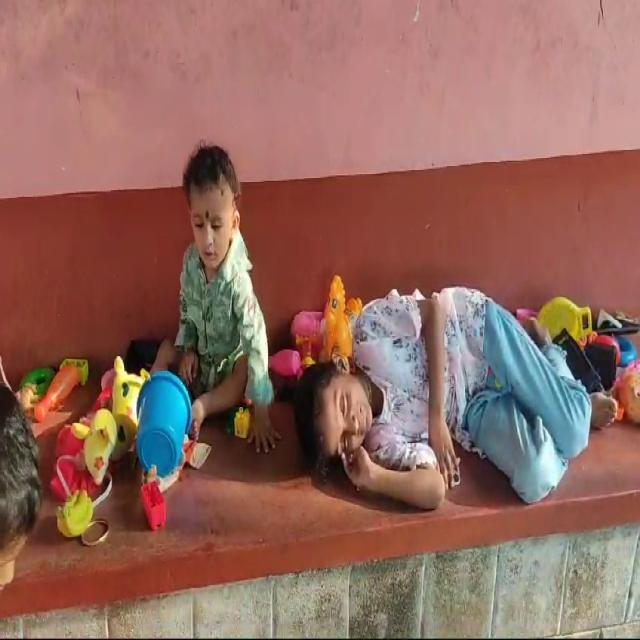child: (286, 282, 628, 534), (150, 125, 273, 547)
